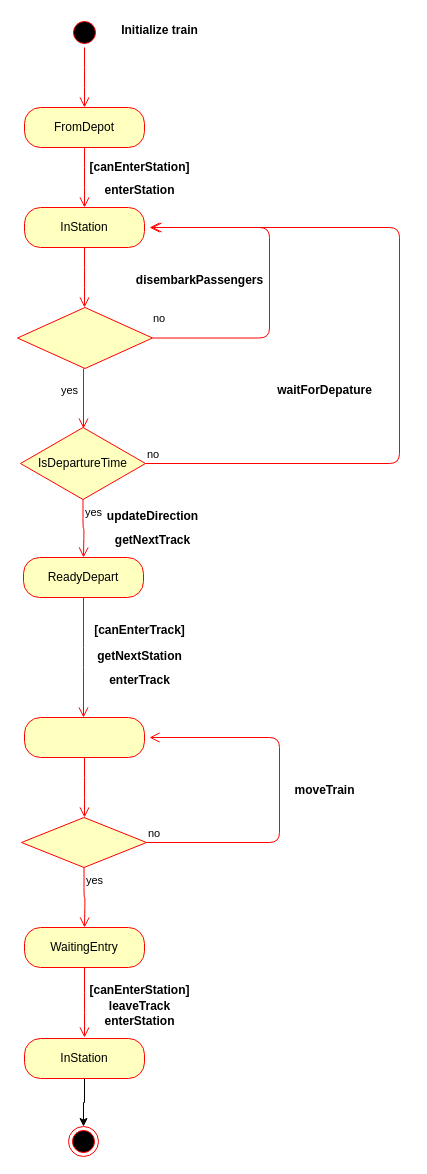
Some shapes in this 427 by 1174 pixel diagram are drawn without their labels. The shapes that lost their labels are listed below. From the top down, each one's centre as x and y in pixels, then its label:
the point at 84,337: HasDisembarked
the point at 84,737: OnRoute
the point at 83,842: ReachedStation
